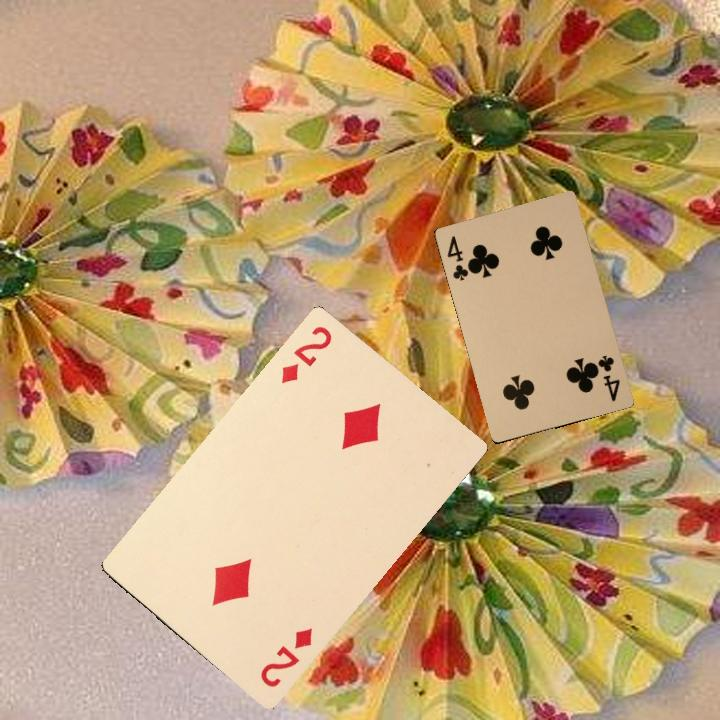2d: (256, 624, 315, 690), (277, 321, 335, 387)
4c: (592, 351, 623, 404), (443, 231, 474, 283)
